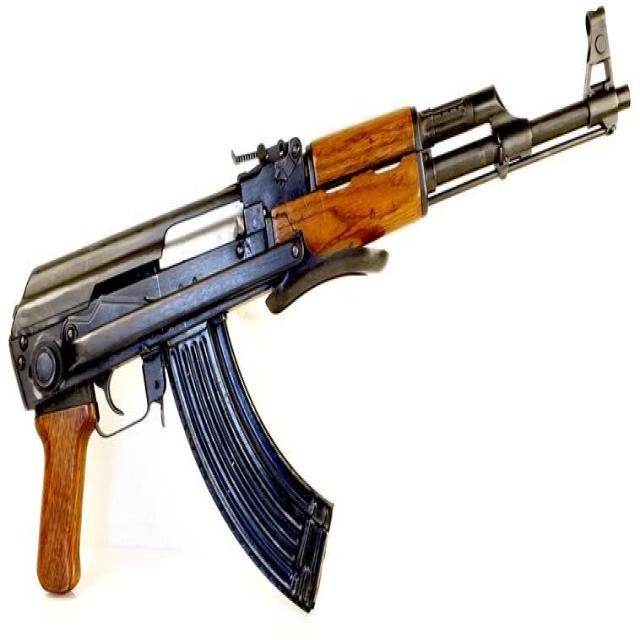Gun: (7, 4, 636, 626)
